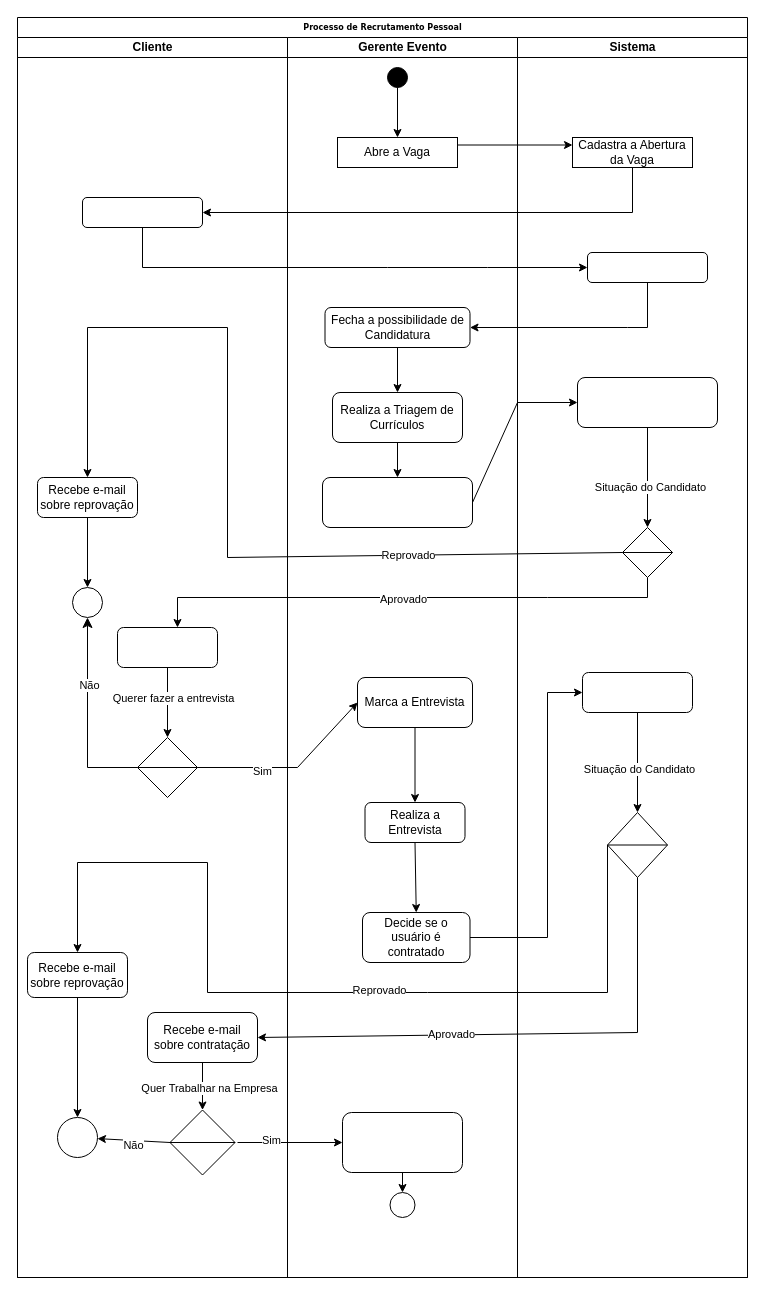
The diagram is 765 pixels wide and 1295 high, and some of its shapes have lost their labels. The centre of each missing label's shape, as x and y in pixels:
"Contratação do Candidato Selecionado" belongs at (x=402, y=1142).
"Decide quais candidatos para a Entrevista" belongs at (x=397, y=502).
"Envia e-mail sobre o resultado da entrevista" belongs at (x=637, y=692).
"Envia um e-mail para o usuário sobre a entrevista" belongs at (x=647, y=402).
"Realiza Cadastro no Evento" belongs at (x=142, y=212).
"Recebe e-mail sobre aprovação" belongs at (x=167, y=647).
"Salva o Cadastro do Usuário" belongs at (x=647, y=267).
